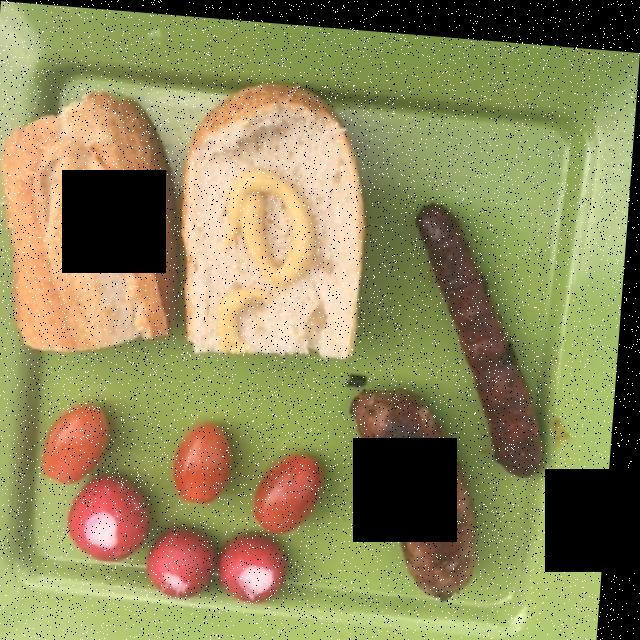bread-french-white-flour: (13, 76, 372, 353)
mustard-dijon: (221, 158, 325, 341)
red-radish: (78, 466, 307, 604)
smoked-cooked-sausage-of-pork-and-beef-meat-sausag: (361, 374, 487, 590)
tomato-raw: (41, 396, 332, 528)
